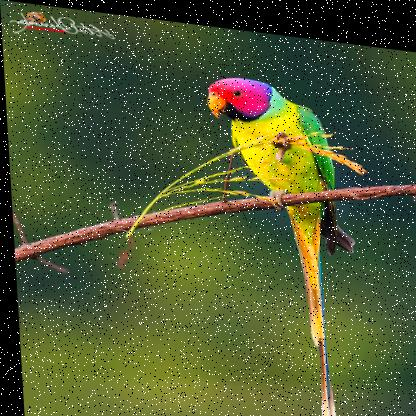Burung: (206, 66, 349, 415)
